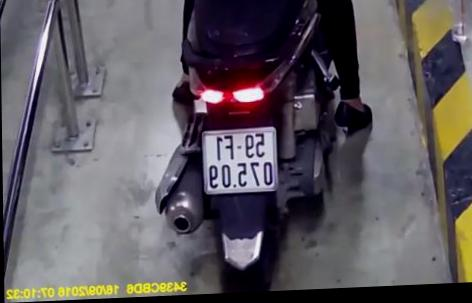License_Plate: (195, 123, 284, 200)
